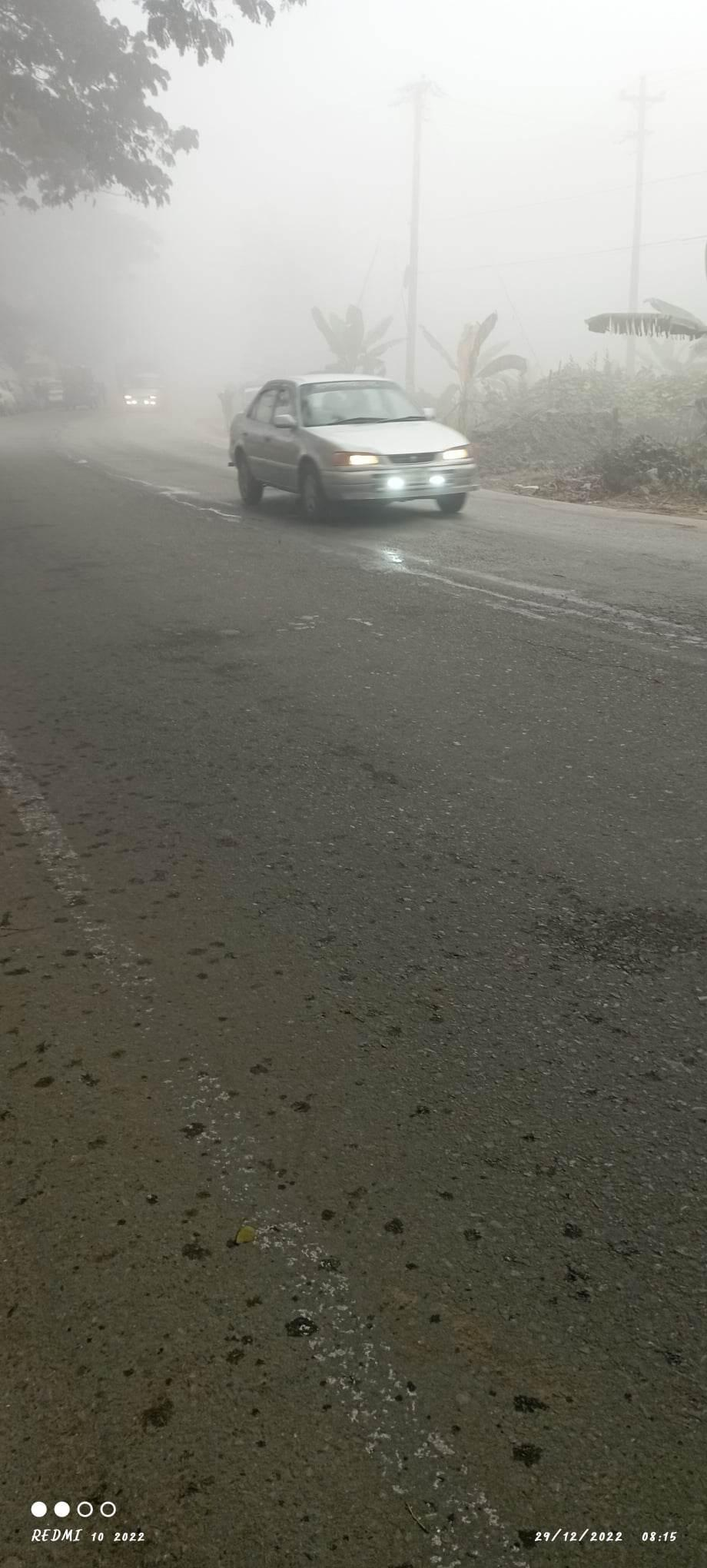Car: (222, 365, 495, 545)
